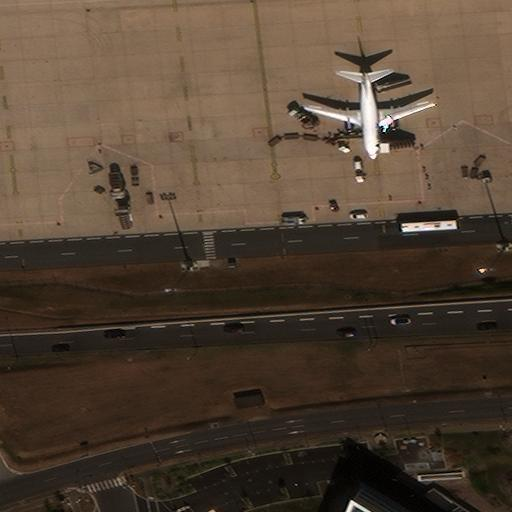Medium Civil Transport: (305, 72, 435, 159)
